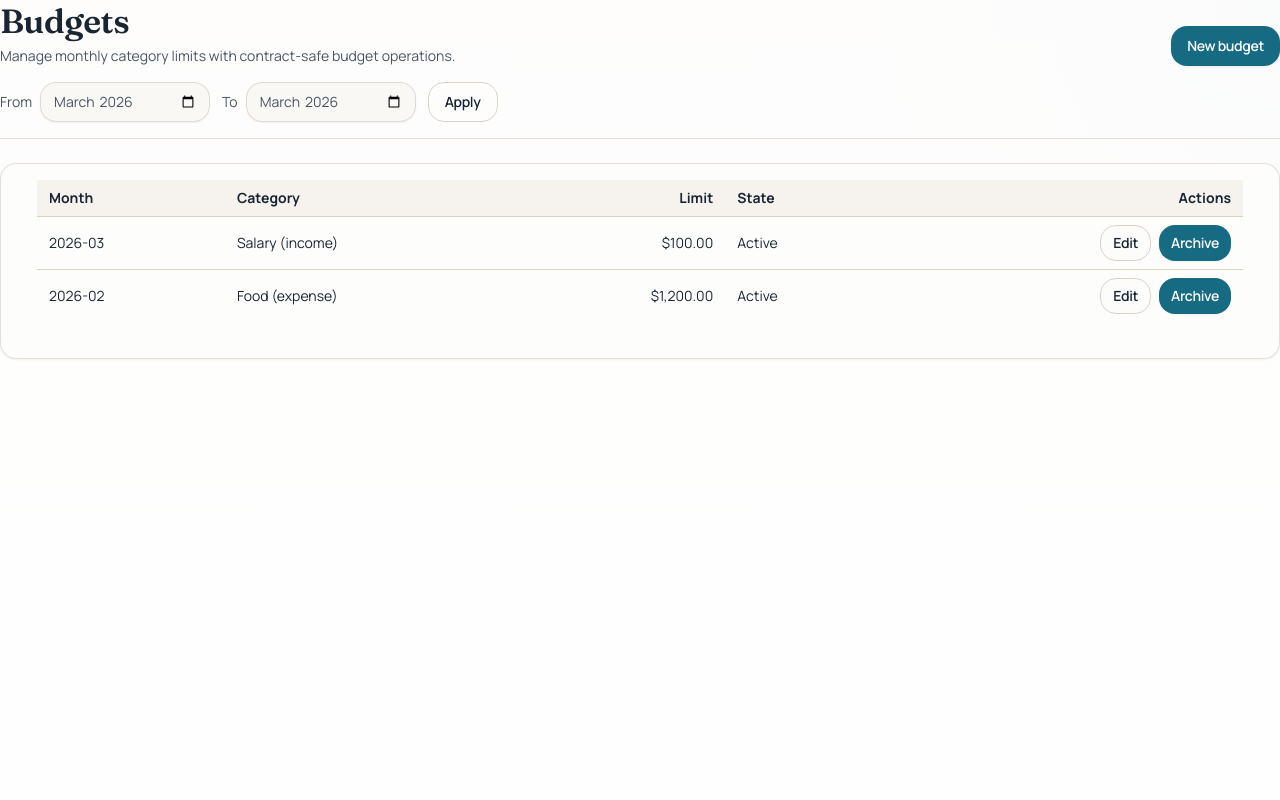
it: BudgetsPage › renders mapped 409 budget-duplicate feedback
This screenshot has width=1280, height=800.
Expected: the text "2026-03" is shown, [37, 216, 225, 270]
Click the button "New budget" at coordinates (1226, 46), box [1171, 26, 1279, 66]
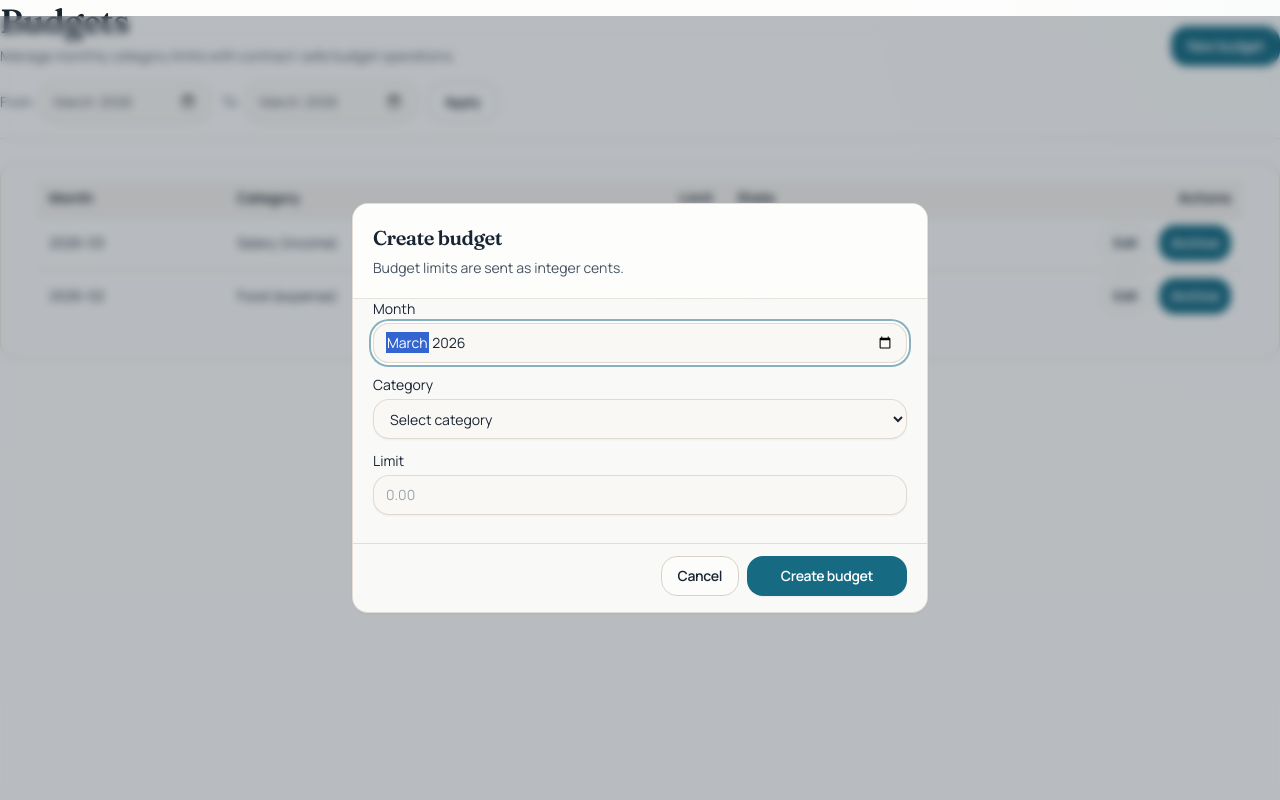
Select "Food (expense)" in the dropdown labelled "Category" at coordinates (640, 419), box [373, 399, 907, 439]
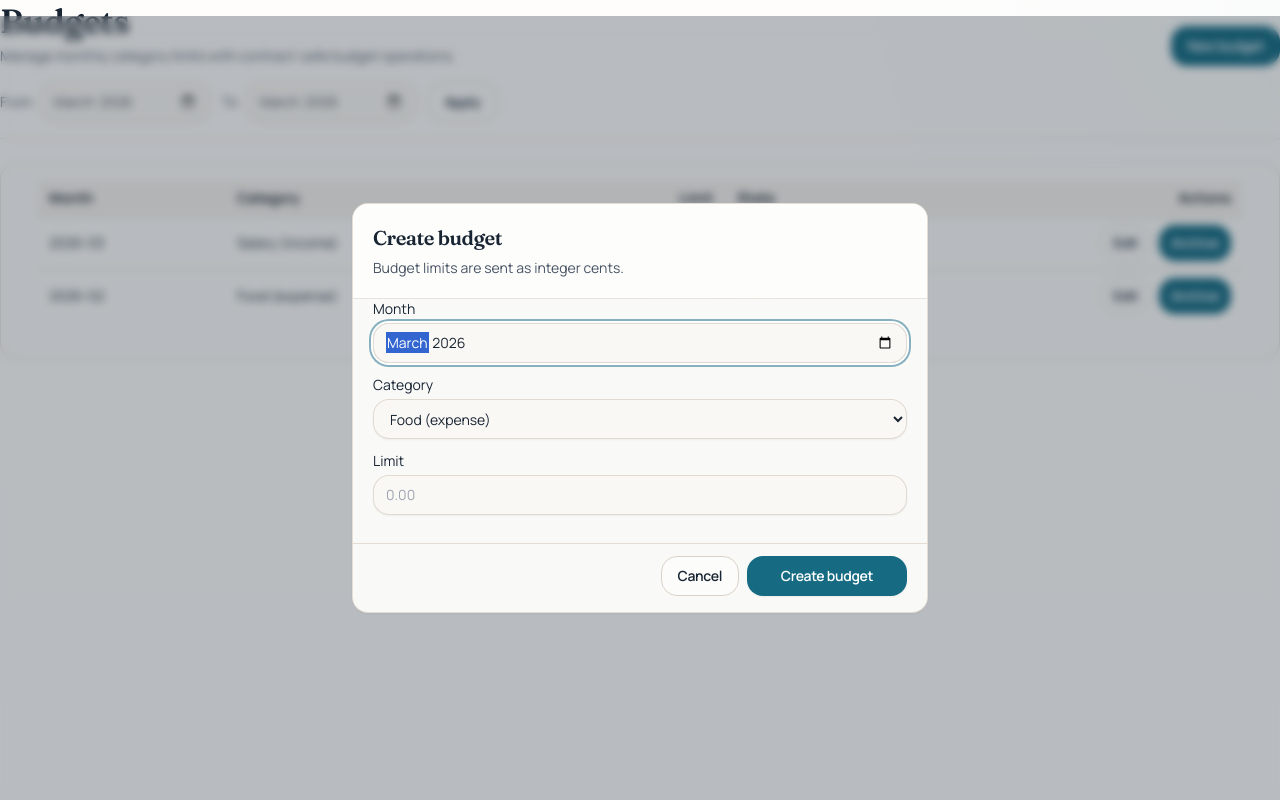
Type "100" into the field labelled "Limit" at coordinates (640, 495), box [373, 475, 907, 515]
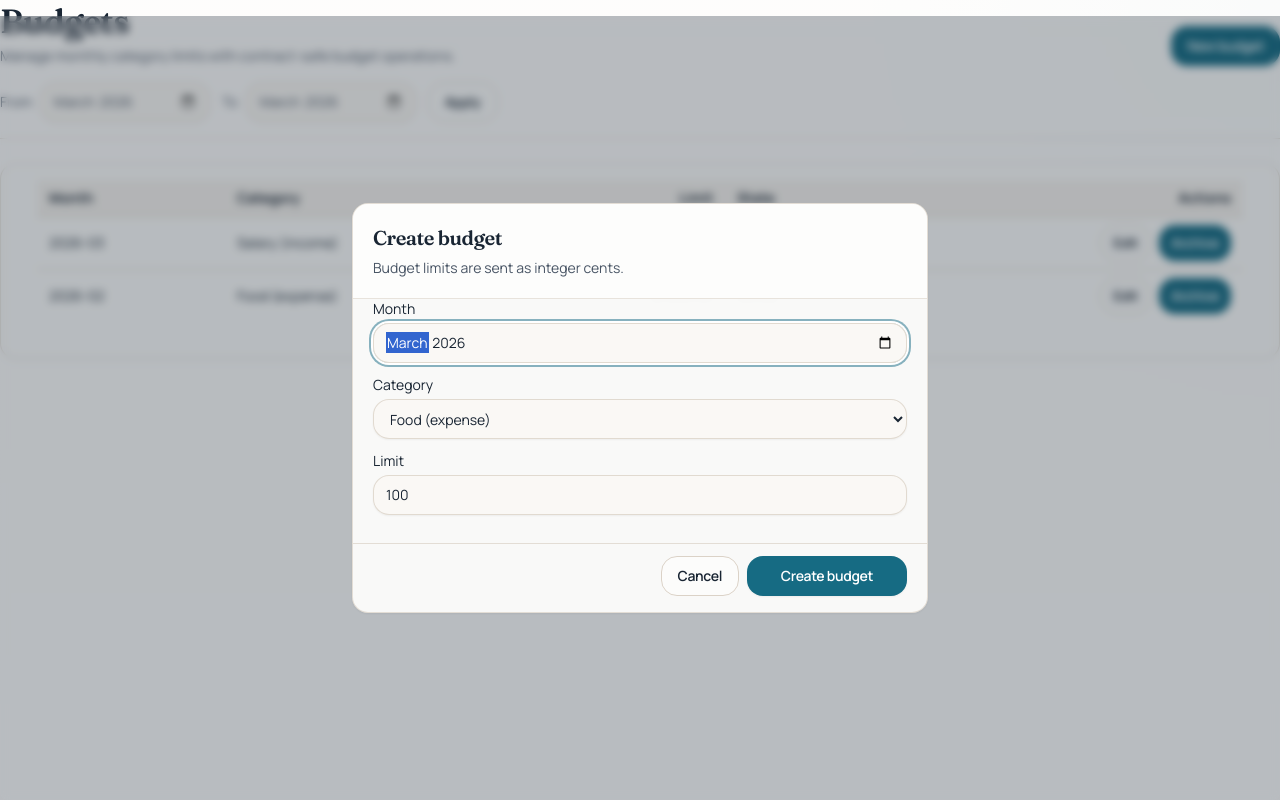
Click the button "Create budget" at coordinates (827, 576), box [747, 556, 907, 596]
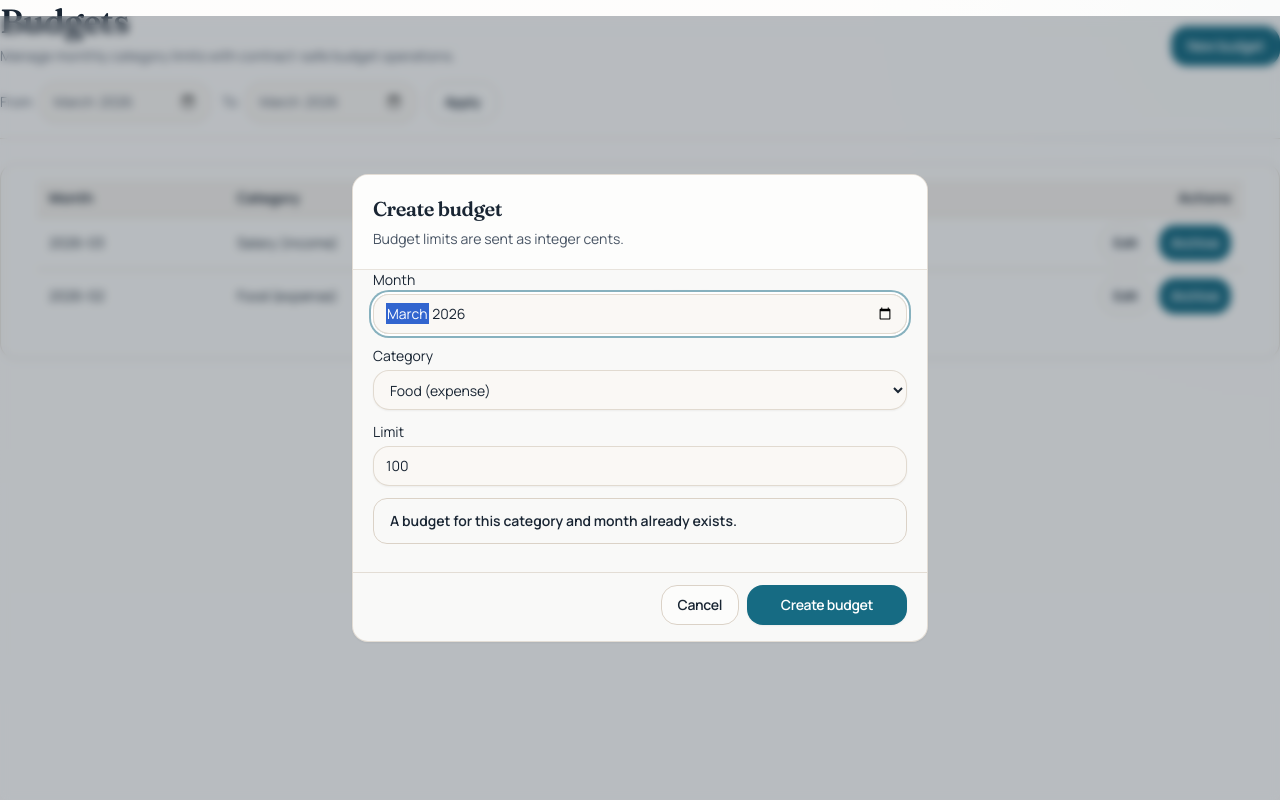
Expected: the text "A budget for this category and month already exists." is shown, [390, 511, 737, 530]
